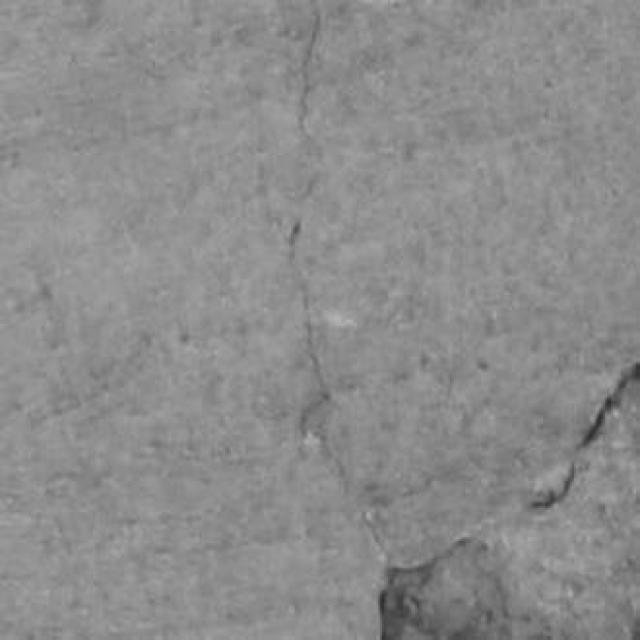crack: (528, 363, 639, 510), (578, 363, 639, 449), (297, 0, 321, 139), (530, 462, 575, 510)
